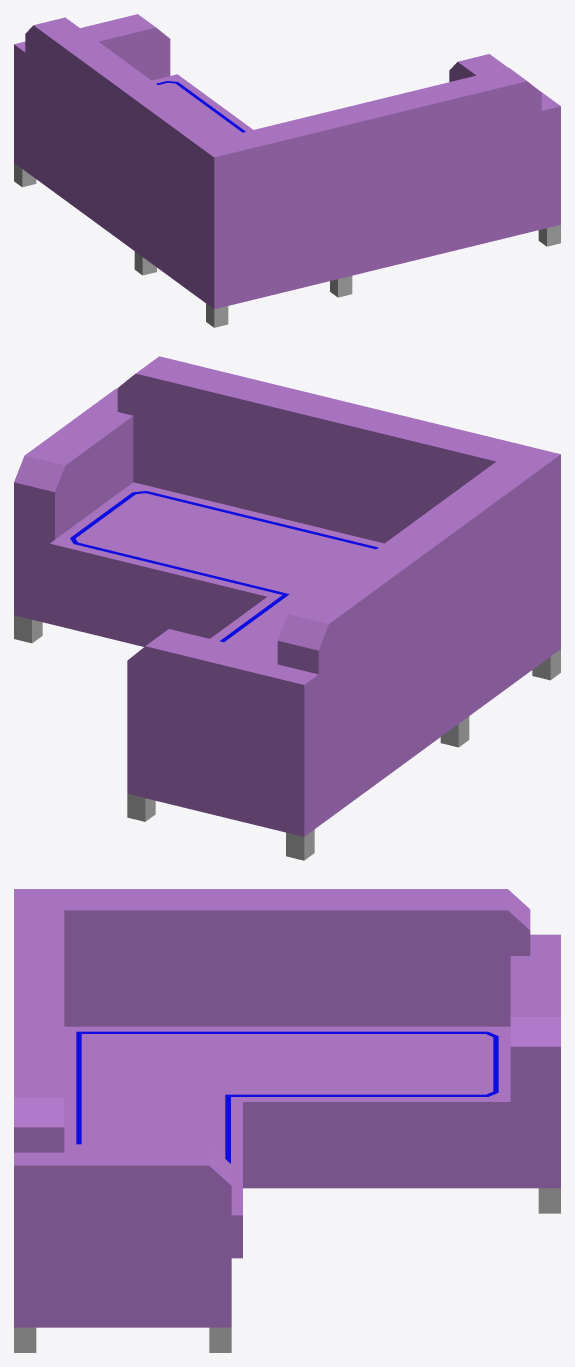
File: loungeSofaCorner.glb
3 renders of one model, top to bottom at view 1: azimuth 30°, elevation 25°; view 2: azimuth 150°, elevation 25°; view 3: azimuth 270°, elevation 25°, orthographic. The views are drawn at different scales.
Visible parts, largest first — view 1: loungeSofaCorner; view 2: loungeSofaCorner; view 3: loungeSofaCorner.
Part boxes in pixels (x1=…): loungeSofaCorner: x1=14, y1=14, x2=560, y2=327; loungeSofaCorner: x1=14, y1=356, x2=560, y2=860; loungeSofaCorner: x1=14, y1=889, x2=560, y2=1352.
Bounding box in the file's own units: 2.21 × 1.04 × 2.21.
